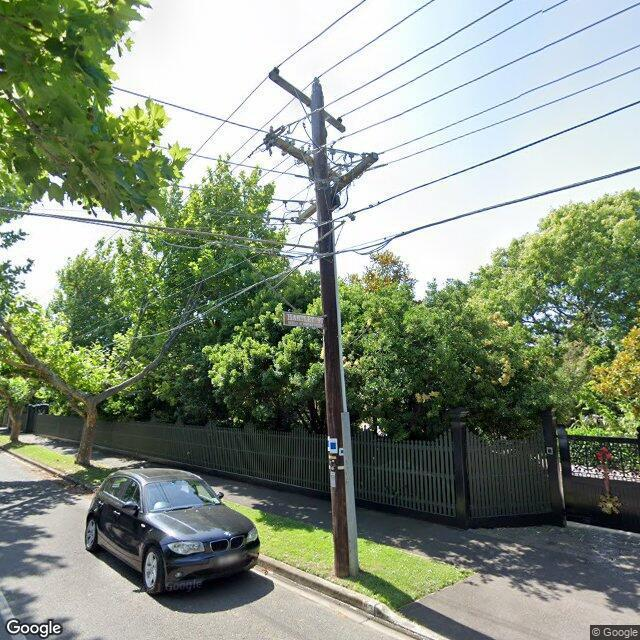HV-transmission: (269, 67, 345, 132)
crossarm: (283, 151, 382, 226), (269, 74, 345, 132), (262, 133, 341, 187)
timber-pole: (311, 82, 357, 579)
